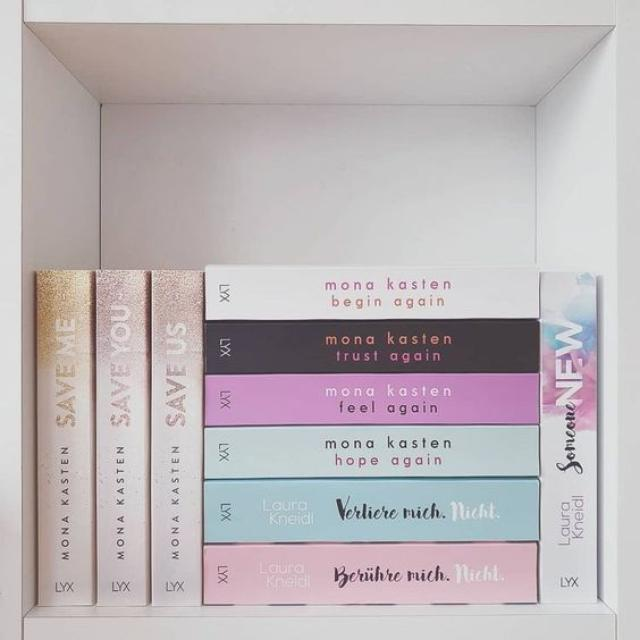book: (204, 479, 539, 541), (204, 542, 537, 604), (36, 270, 95, 604), (540, 276, 597, 601), (96, 270, 149, 604), (205, 373, 538, 426), (205, 320, 538, 373), (151, 271, 203, 605), (205, 426, 538, 478), (207, 267, 539, 319)
